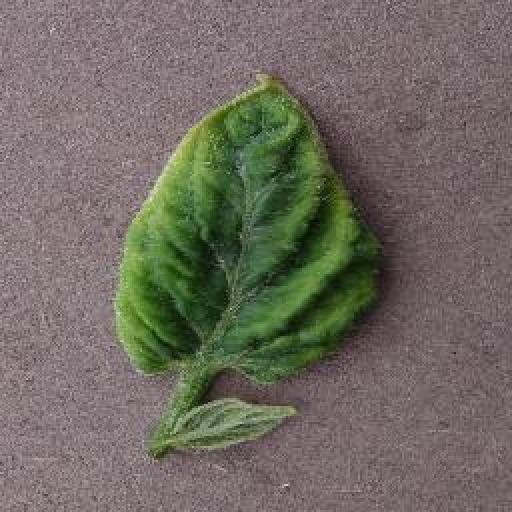disease_tomato: (117, 72, 384, 387)
